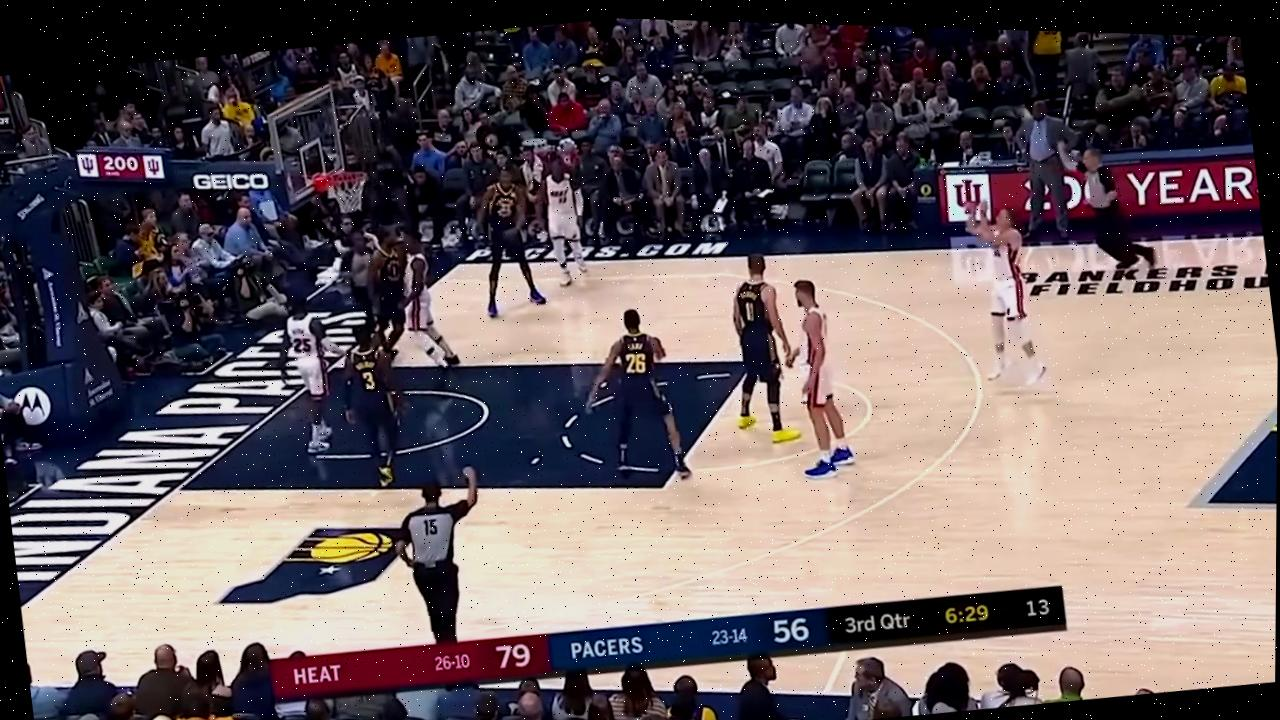foul: (344, 209, 476, 379)
